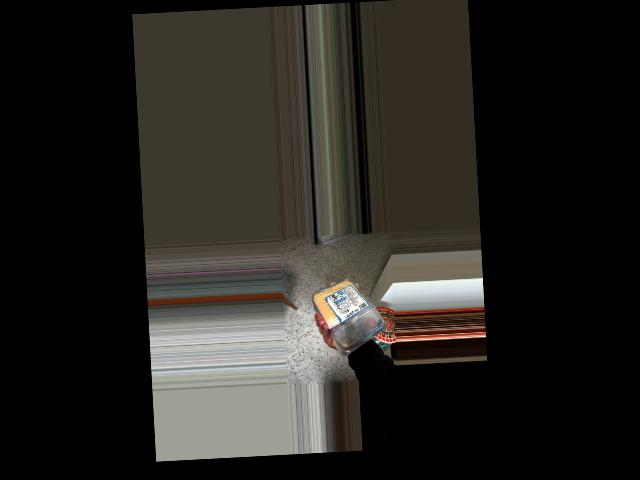cheese: (315, 274, 391, 339)
